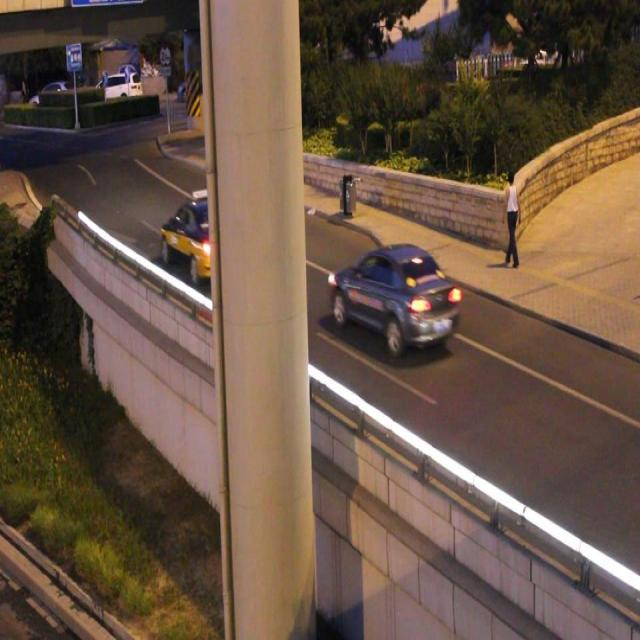car: (328, 246, 456, 342), (162, 203, 231, 279)
